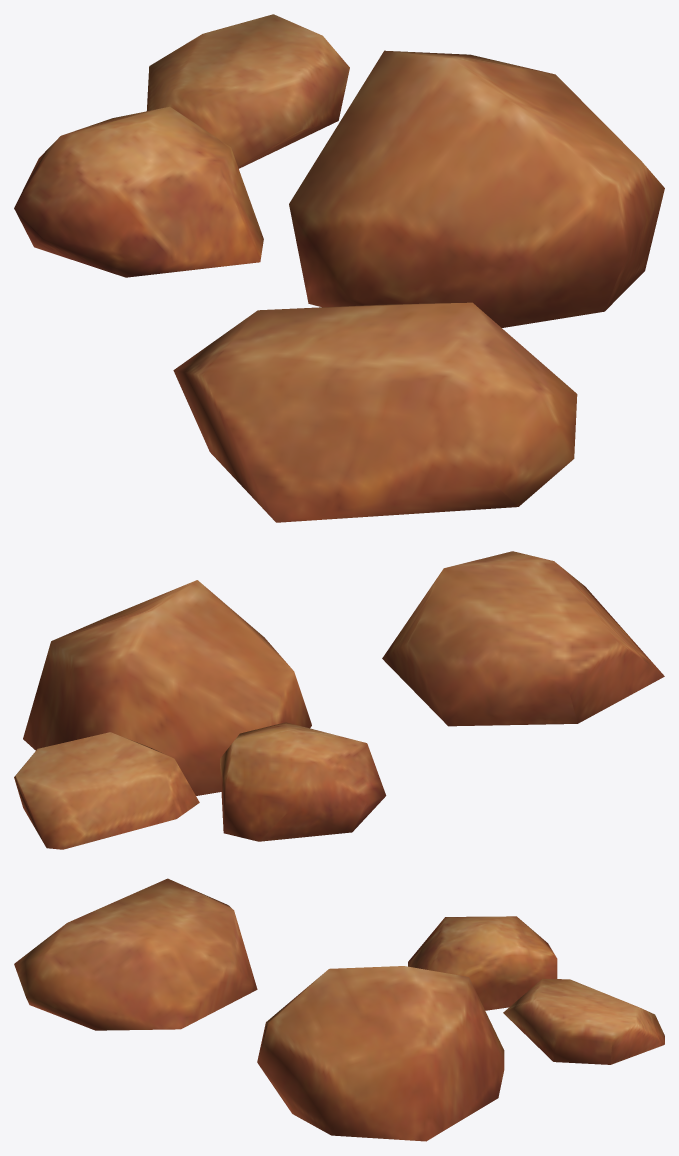
The model's file is Rock_Formation.fbx.
3 renders of one model, top to bottom at view 1: azimuth 30°, elevation 25°; view 2: azimuth 150°, elevation 25°; view 3: azimuth 270°, elevation 25°, orthographic. The views are drawn at different scales.
Parts seen in each view (by area): view 1: polySurface4, polySurface1, polySurface2, polySurface3; view 2: polySurface4, polySurface1, polySurface2, polySurface3; view 3: polySurface4, polySurface1, polySurface3, polySurface2.
Boxes of the visible parts, <box> form: polySurface4: <box>289,50,664,327</box>; polySurface1: <box>173,302,577,522</box>; polySurface2: <box>14,106,263,277</box>; polySurface3: <box>147,14,349,168</box>; polySurface4: <box>23,580,311,795</box>; polySurface1: <box>382,551,664,726</box>; polySurface2: <box>220,722,386,841</box>; polySurface3: <box>14,732,199,849</box>; polySurface4: <box>257,966,504,1141</box>; polySurface1: <box>14,878,257,1030</box>; polySurface3: <box>503,978,664,1064</box>; polySurface2: <box>408,916,557,1010</box>.
Bounding box in the file's own units: 96.23 × 31.08 × 143.
